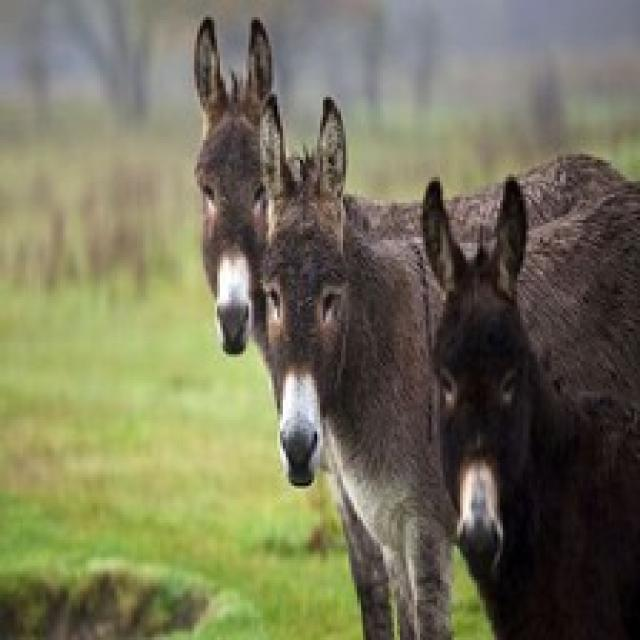Donkey: (254, 92, 637, 638), (192, 12, 394, 638), (417, 168, 637, 638)
